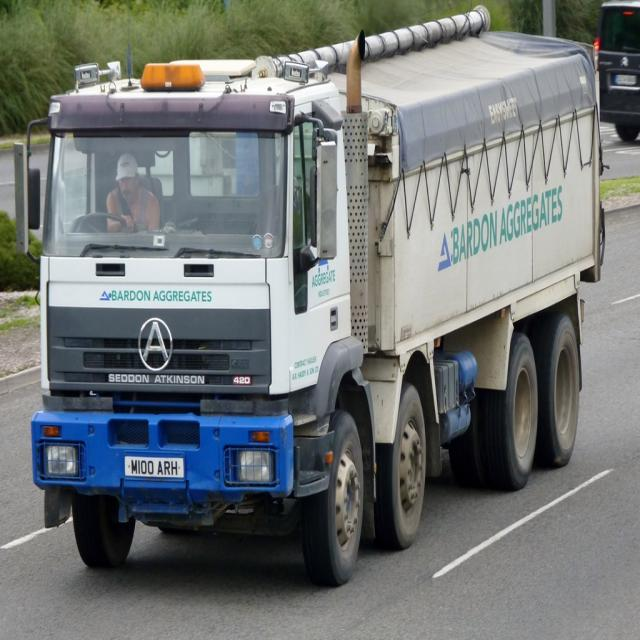Heavy Duty Truck: (13, 2, 610, 592)
